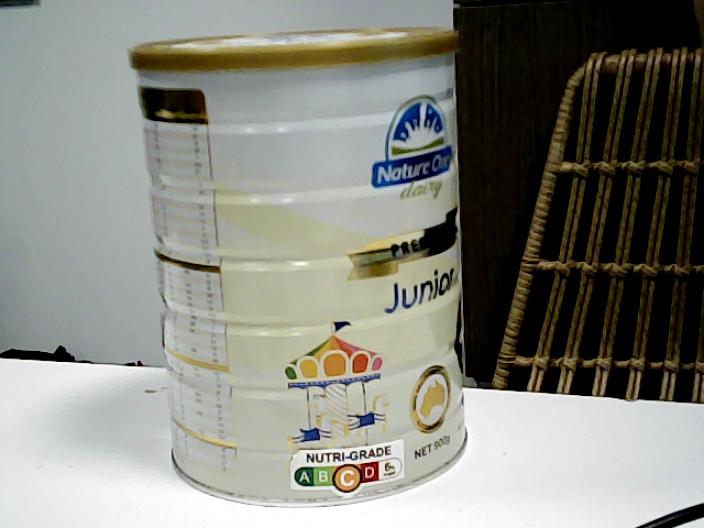Babymilk-powder_500-599g_NonHalal_NonHealthy: (130, 25, 471, 510)
